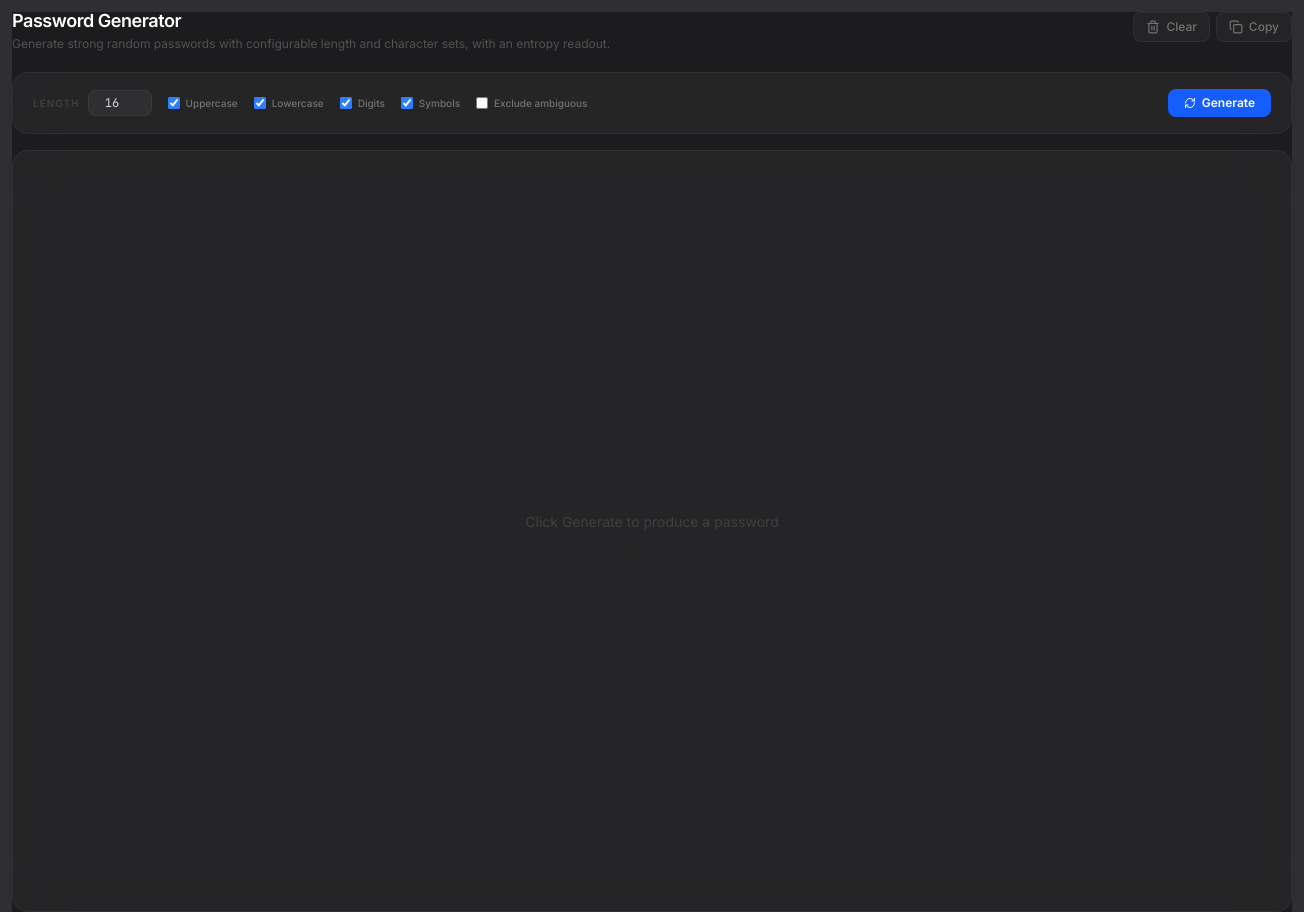
Test: PasswordGenerator › clears the password
Click the button "Generate" at (1219, 103), box left=1168, top=89, right=1271, bottom=117
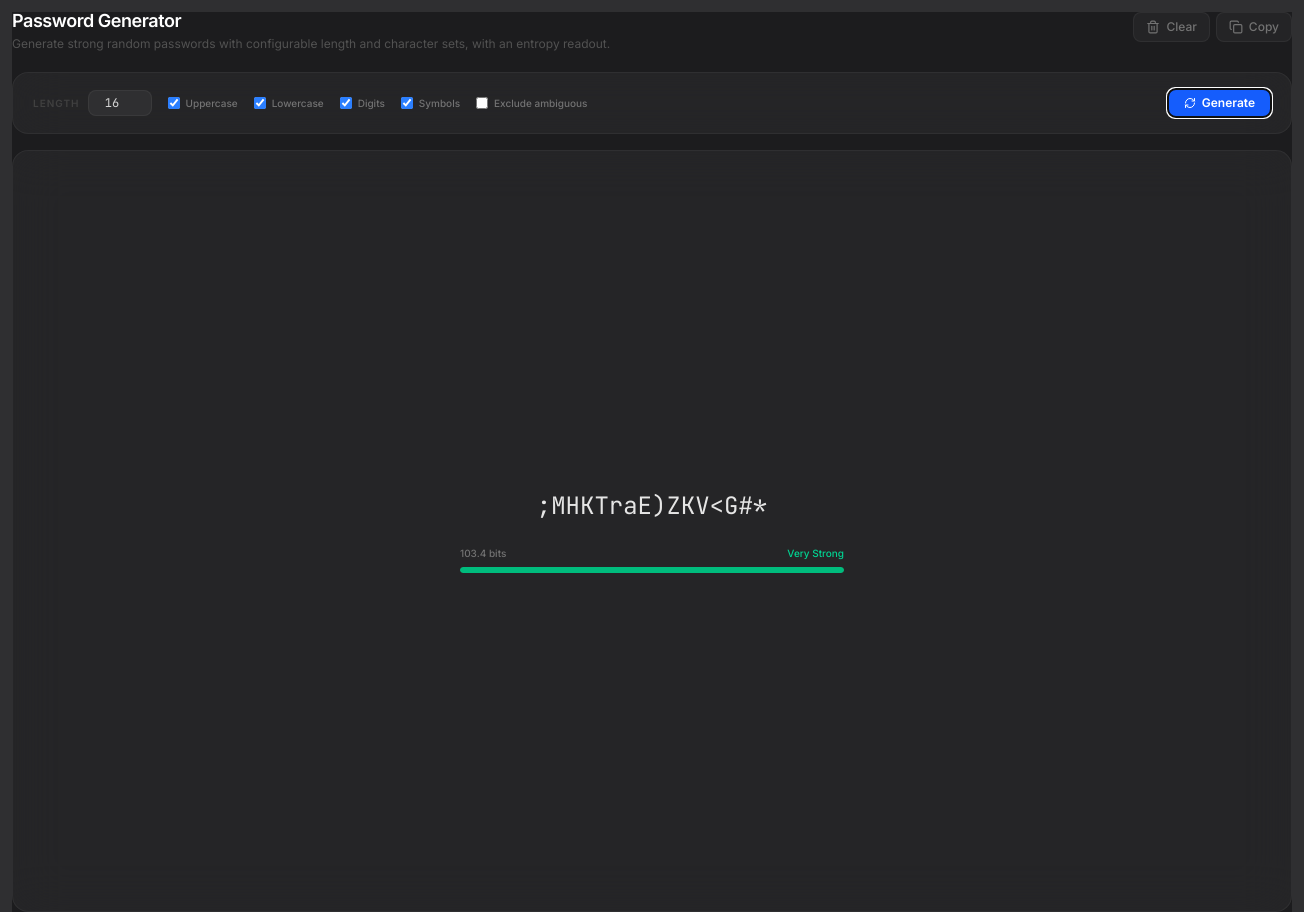
Click the button titled "Clear all" at (1172, 27), box left=1133, top=12, right=1210, bottom=42
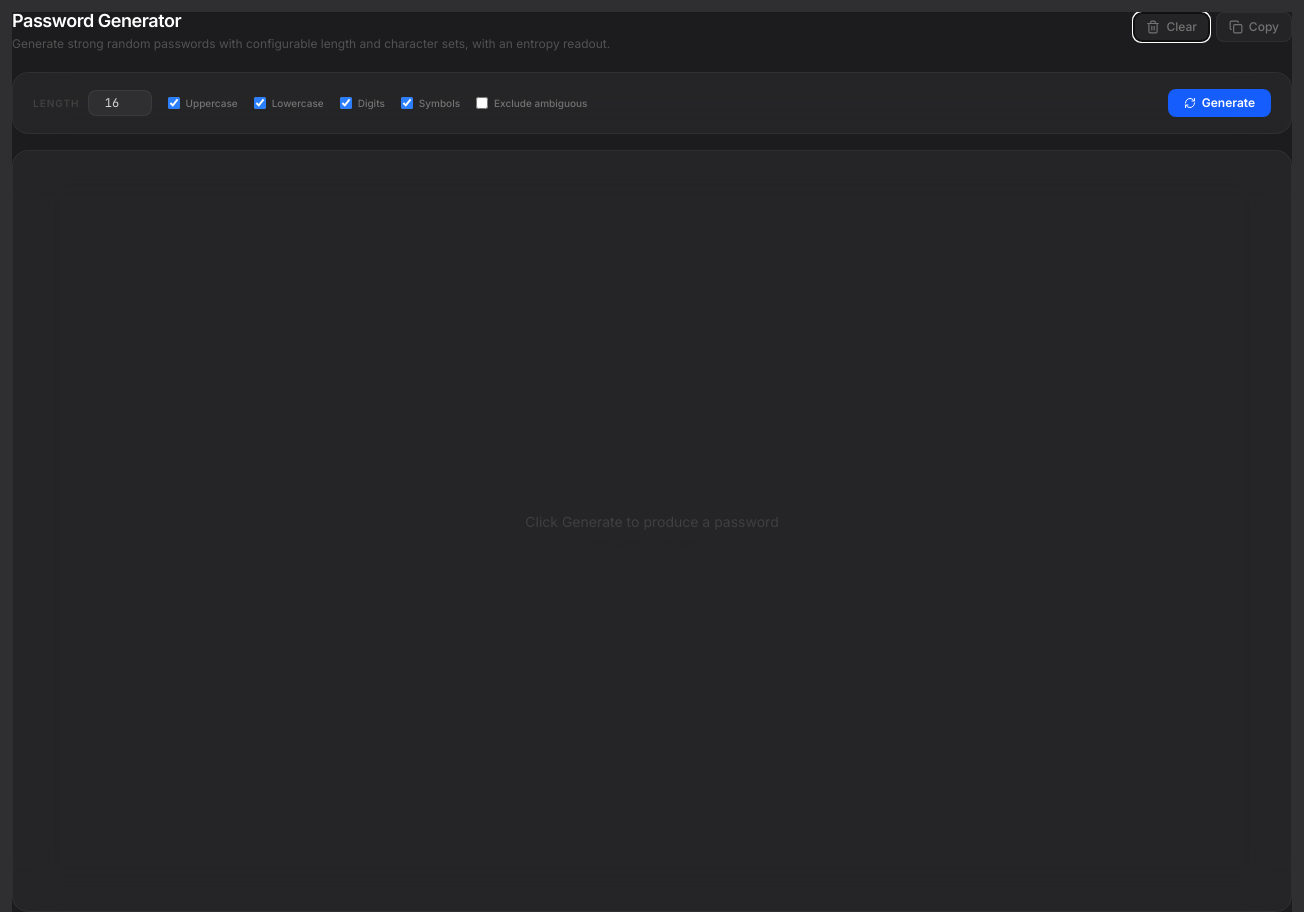
Now the text "Click Generate to produce a password" is shown, box left=525, top=512, right=779, bottom=532
